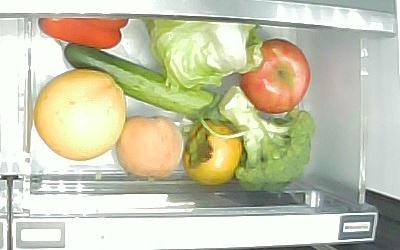apple: (242, 38, 312, 114)
broccoli: (218, 86, 316, 189)
cucumber: (63, 42, 222, 121)
grapefruit: (33, 69, 126, 160)
lettuce: (143, 20, 261, 86)
paprika: (36, 17, 129, 51)
peach: (114, 115, 183, 178)
persimmon: (184, 120, 242, 185)
